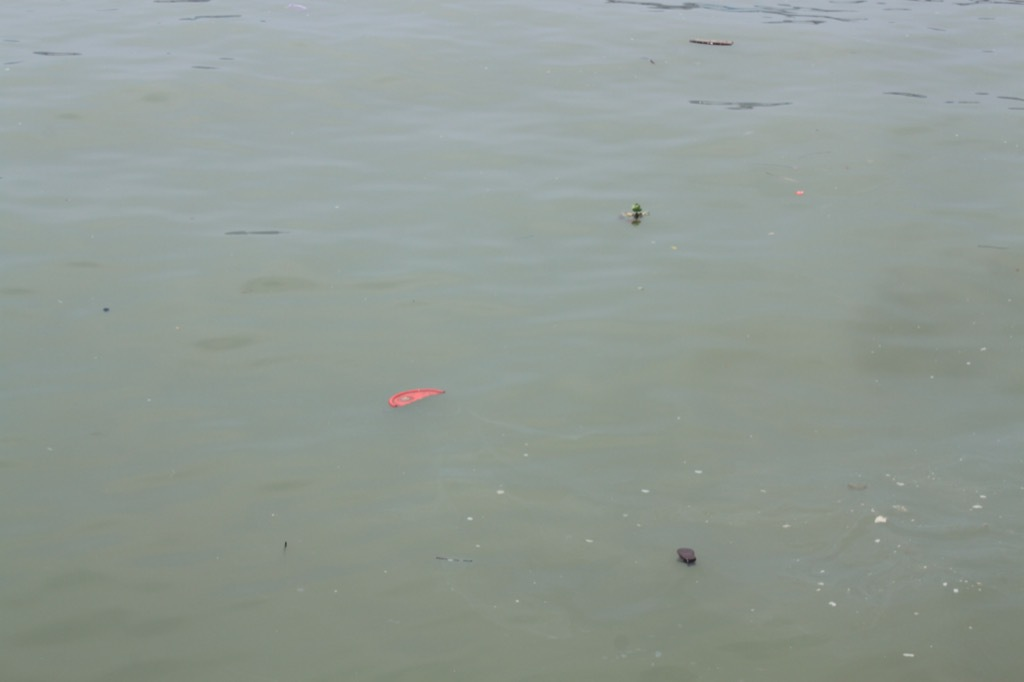organic: (614, 195, 655, 234), (270, 528, 301, 572), (427, 547, 481, 572), (90, 299, 119, 321)
plastic: (367, 369, 466, 428), (666, 531, 717, 584), (784, 176, 818, 213)
